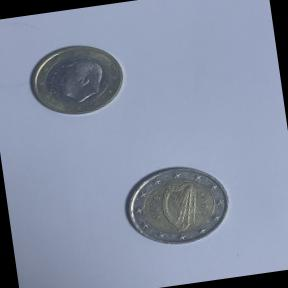coin: (115, 156, 240, 255), (18, 36, 132, 128)
